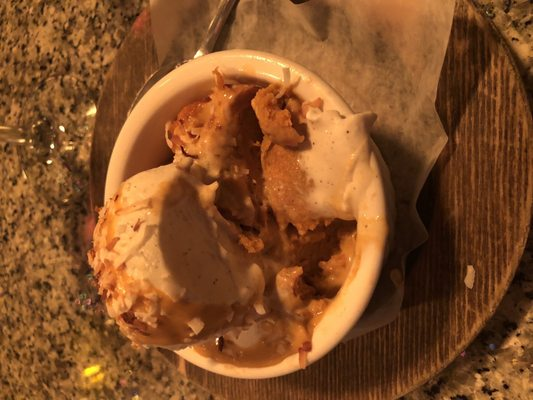sushi: (86, 47, 466, 381)
